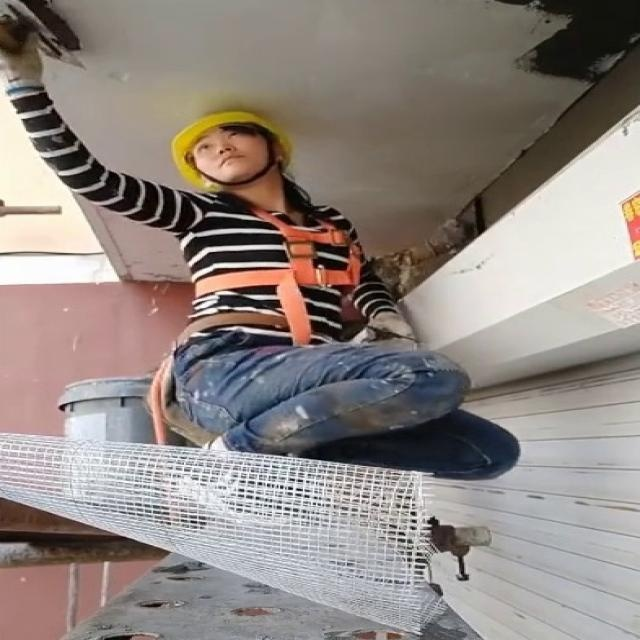Arnes_seguridad: (178, 179, 370, 315)
